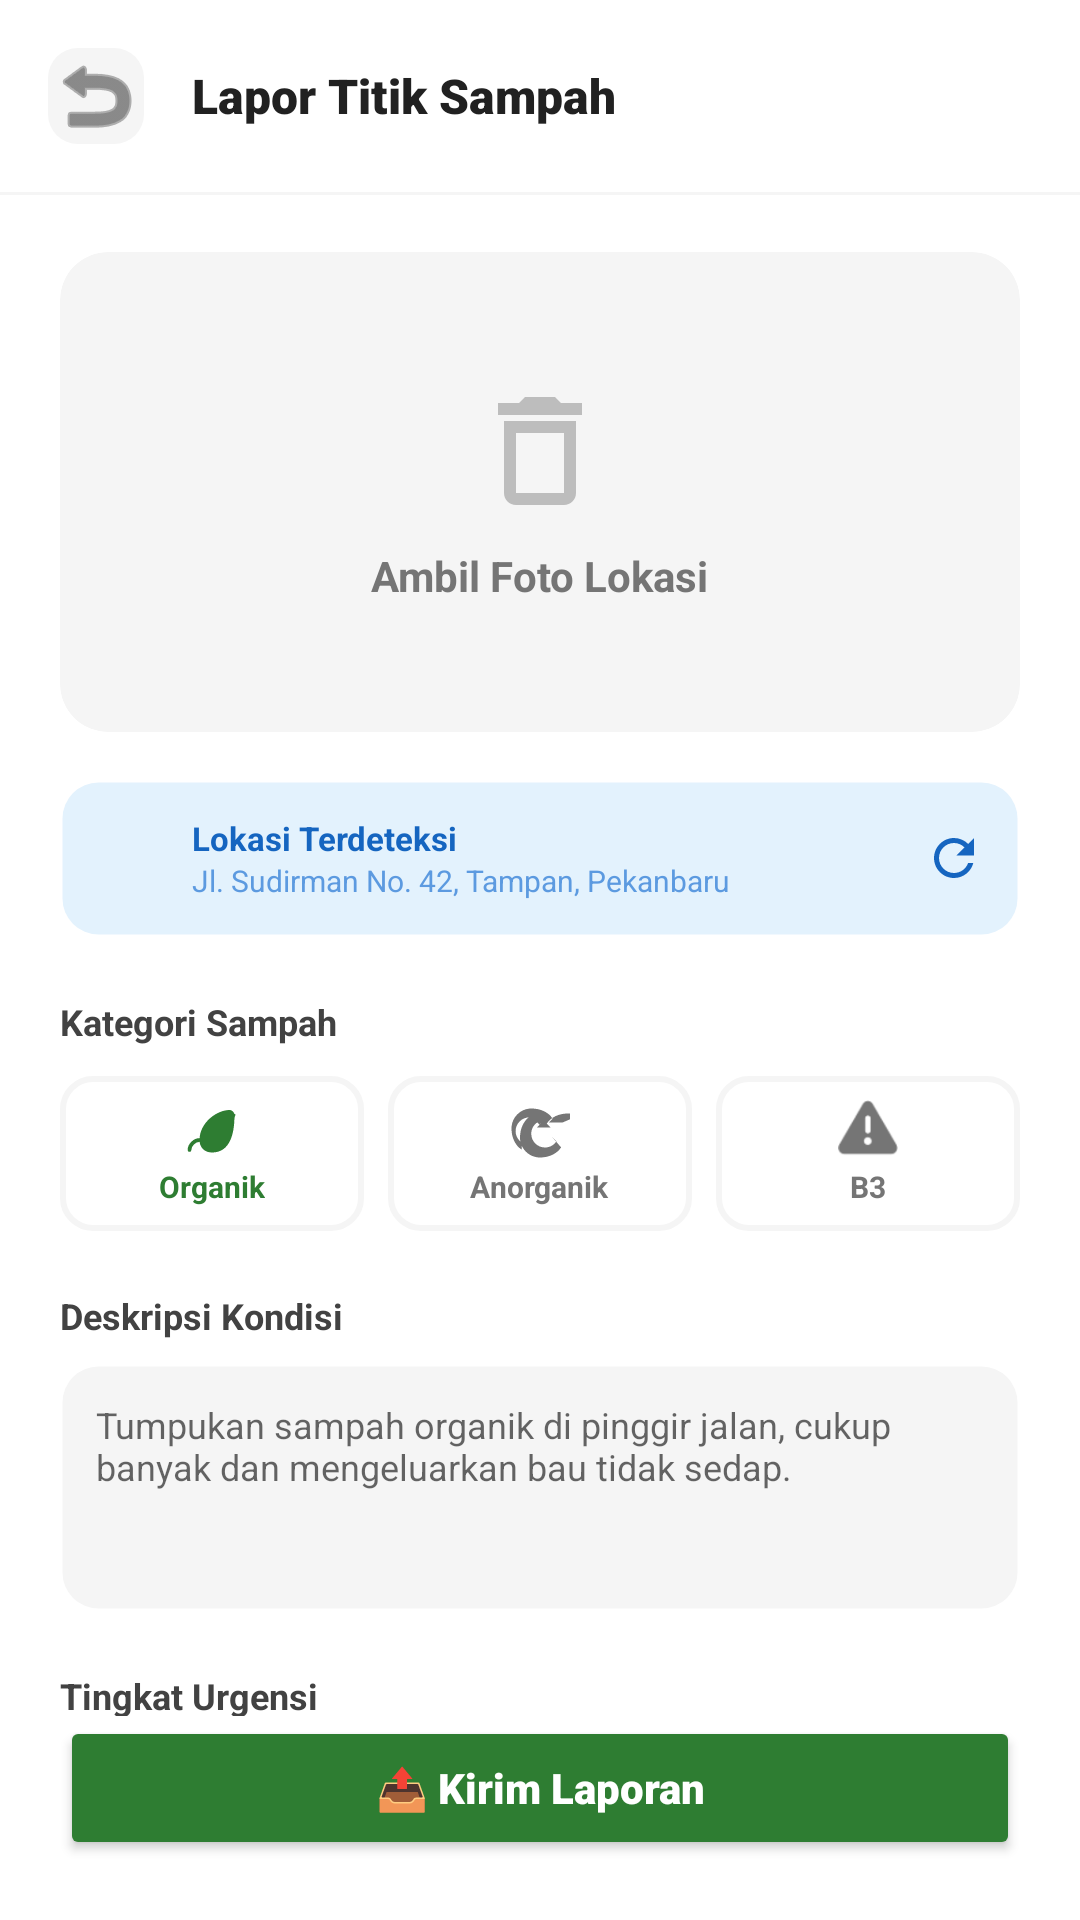

Locate icon controls on the screen. Image size 1080 x 1920, boxes as {"left": x1, "top": y1, "right": x2, "bottom": y2}.
alert: {"left": 838, "top": 1101, "right": 898, "bottom": 1155}
eco: {"left": 187, "top": 1110, "right": 236, "bottom": 1153}
recycle: {"left": 511, "top": 1108, "right": 570, "bottom": 1158}
refresh: {"left": 934, "top": 838, "right": 974, "bottom": 878}
revert: {"left": 63, "top": 65, "right": 132, "bottom": 128}
trash: {"left": 498, "top": 397, "right": 582, "bottom": 505}
